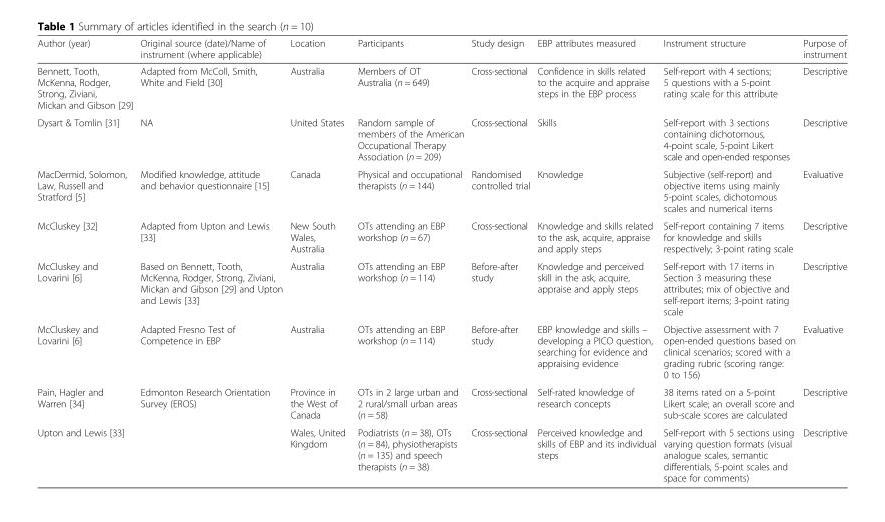table: (36, 37, 846, 483)
table column: (136, 37, 285, 483), (659, 37, 798, 483), (533, 37, 659, 483), (350, 37, 467, 483), (36, 37, 136, 483), (467, 37, 533, 483), (285, 37, 350, 483), (798, 37, 846, 483)
table column header: (36, 37, 846, 62)
table row: (36, 257, 846, 320), (36, 320, 846, 382), (36, 423, 846, 483), (36, 113, 846, 165), (36, 62, 846, 113), (36, 165, 846, 216), (36, 216, 846, 257), (36, 382, 846, 423), (36, 37, 846, 62)
